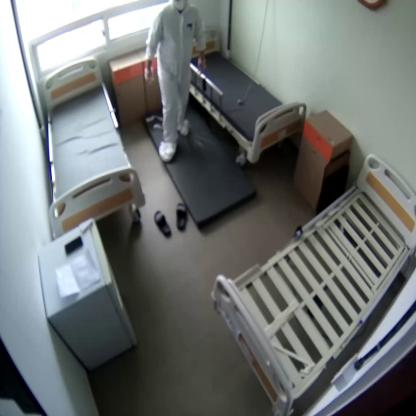Bed: (191, 26, 305, 164)
Person: (146, 0, 207, 164)
